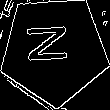N_E: (29, 29, 80, 71)
